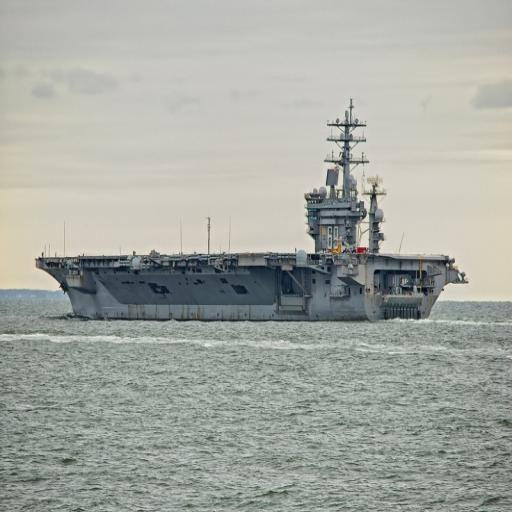Portanaves: (32, 95, 475, 330)
